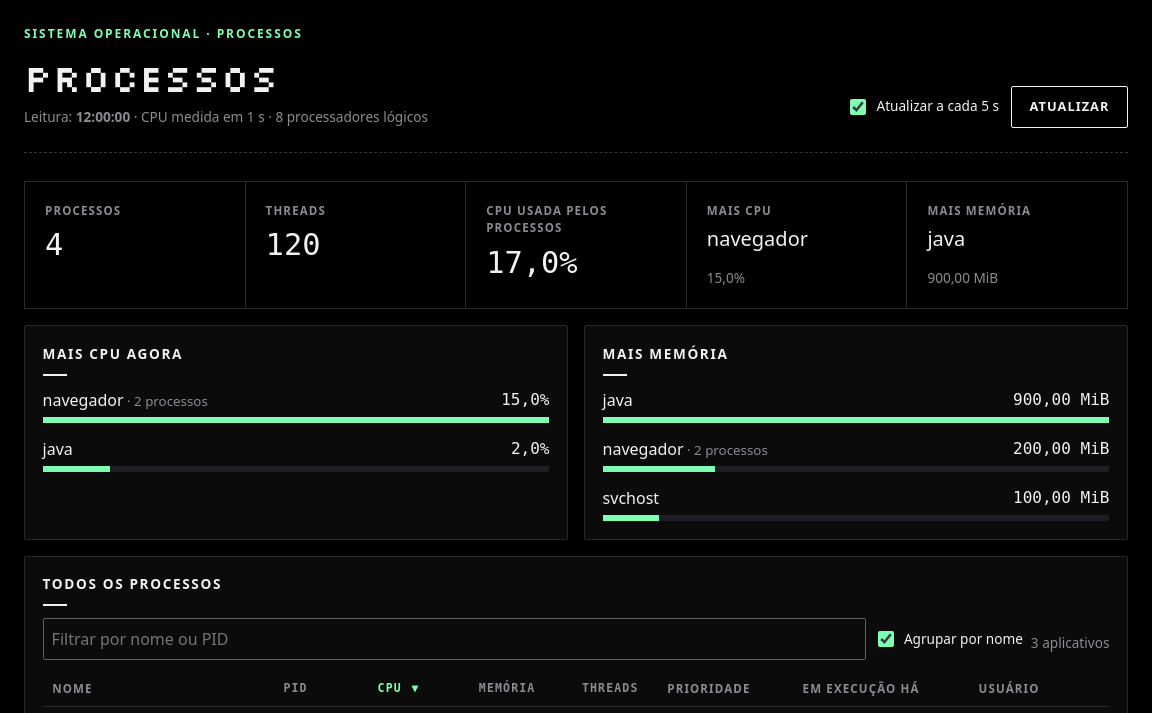
ProcessesPage › agrupa por nome e permite ver cada processo
This screenshot has width=1152, height=713.
Click the checkbox labelled "Agrupar por nome": (886,639) x1=878 y1=631 x2=894 y2=647
(page scrolled)
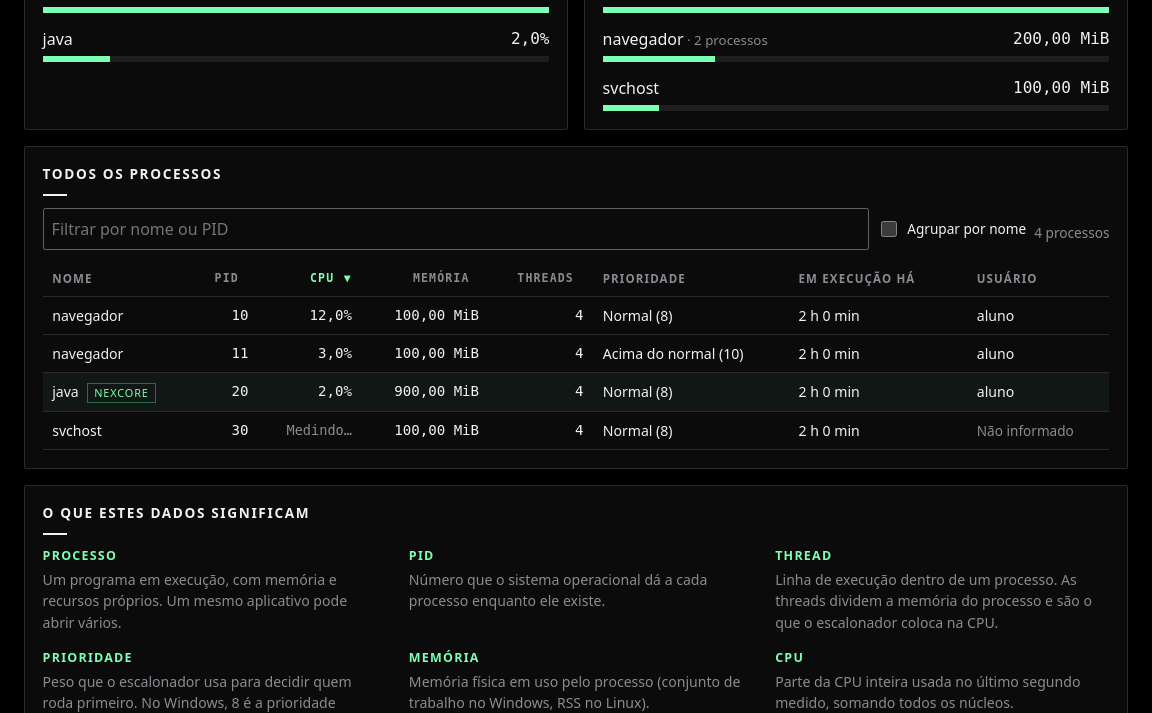
Check: the text "Normal (8)" is shown 3 times, box x1=593 y1=296 x2=789 y2=334; x1=593 y1=372 x2=789 y2=411; x1=593 y1=411 x2=789 y2=450
Check: the text "Acima do normal (10)" is shown, box x1=593 y1=334 x2=789 y2=372
